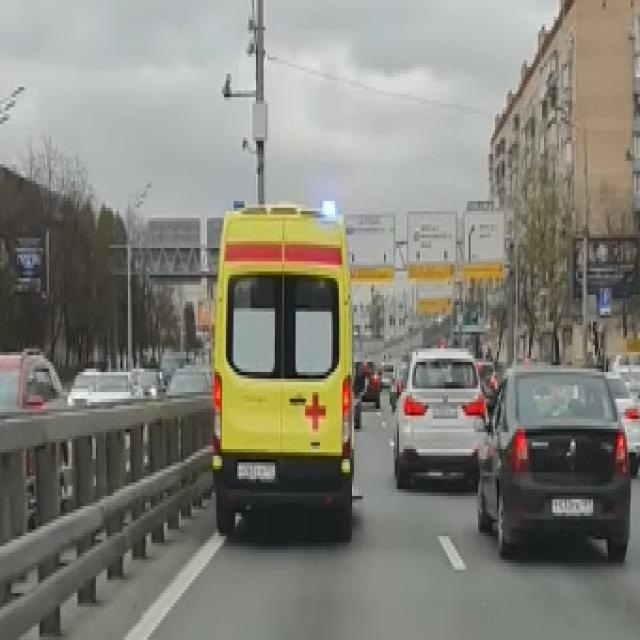intensive care unit: (215, 197, 356, 549)
non emergency car: (480, 370, 627, 561), (394, 346, 492, 497)
